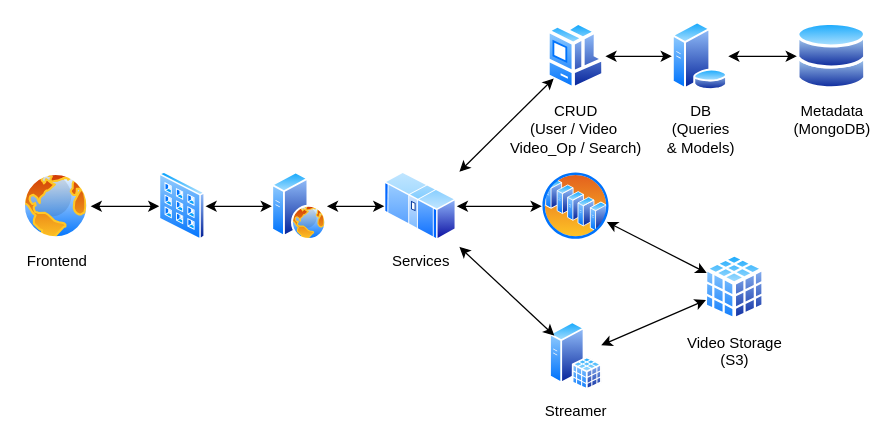
This 891x441 diagram has some shape labels left out. The shapes that lost their labels are listed below. From the top down, each one's centre as x and y in pixels, then its label:
(x=182, y=205): Request Filters
(x=298, y=205): Routes (views)
(x=575, y=205): Encoder
